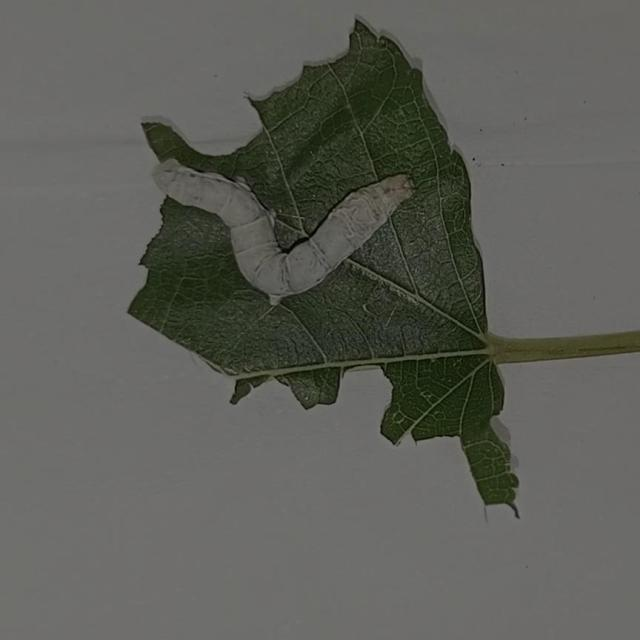Healthy: (134, 115, 451, 332)
